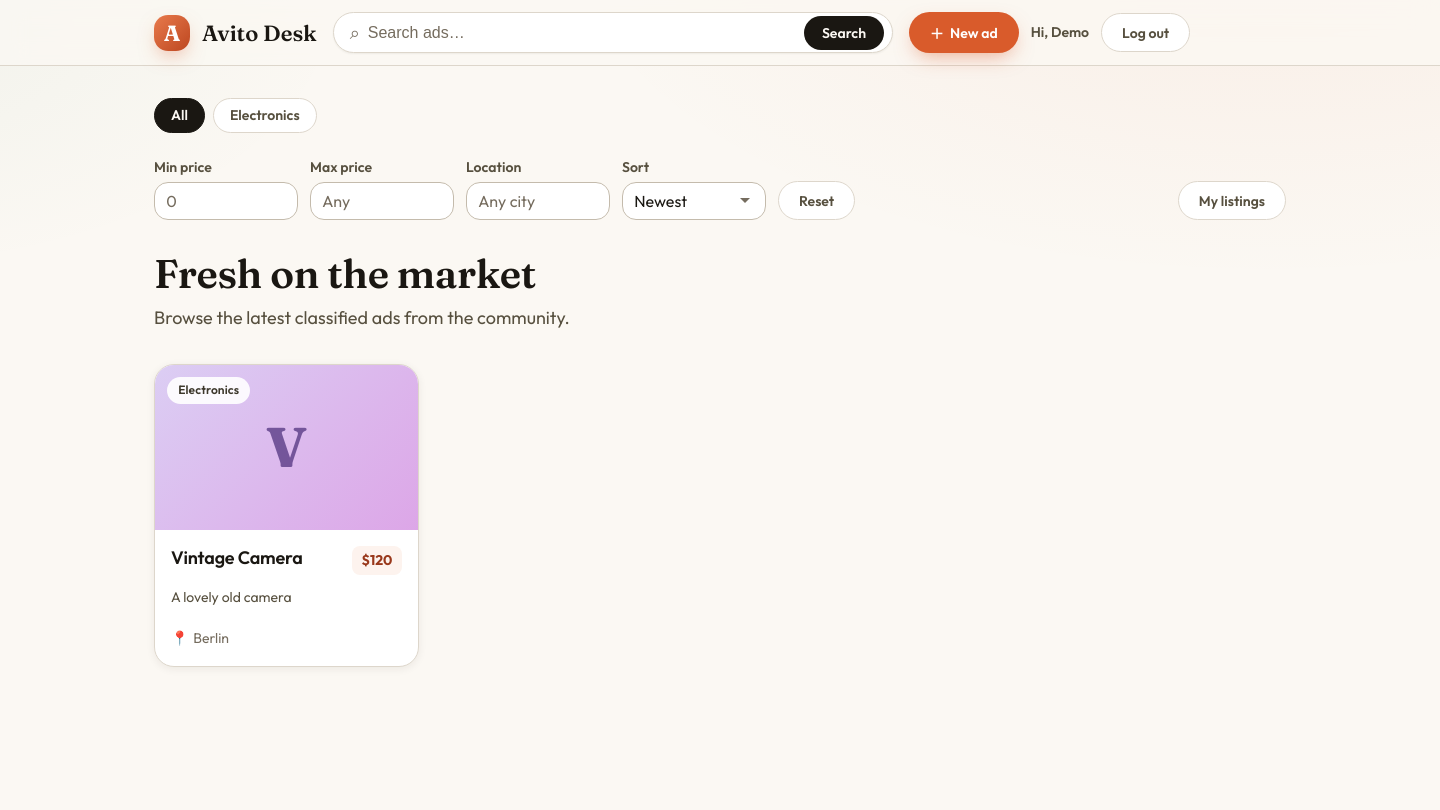
Test: item form shows a validation error on empty name
The image size is (1440, 810).
What coordinates should you click on to do the following:
click the button "＋ New ad"
I would click on:
 (964, 33)
Its box is [909,12,1019,53].
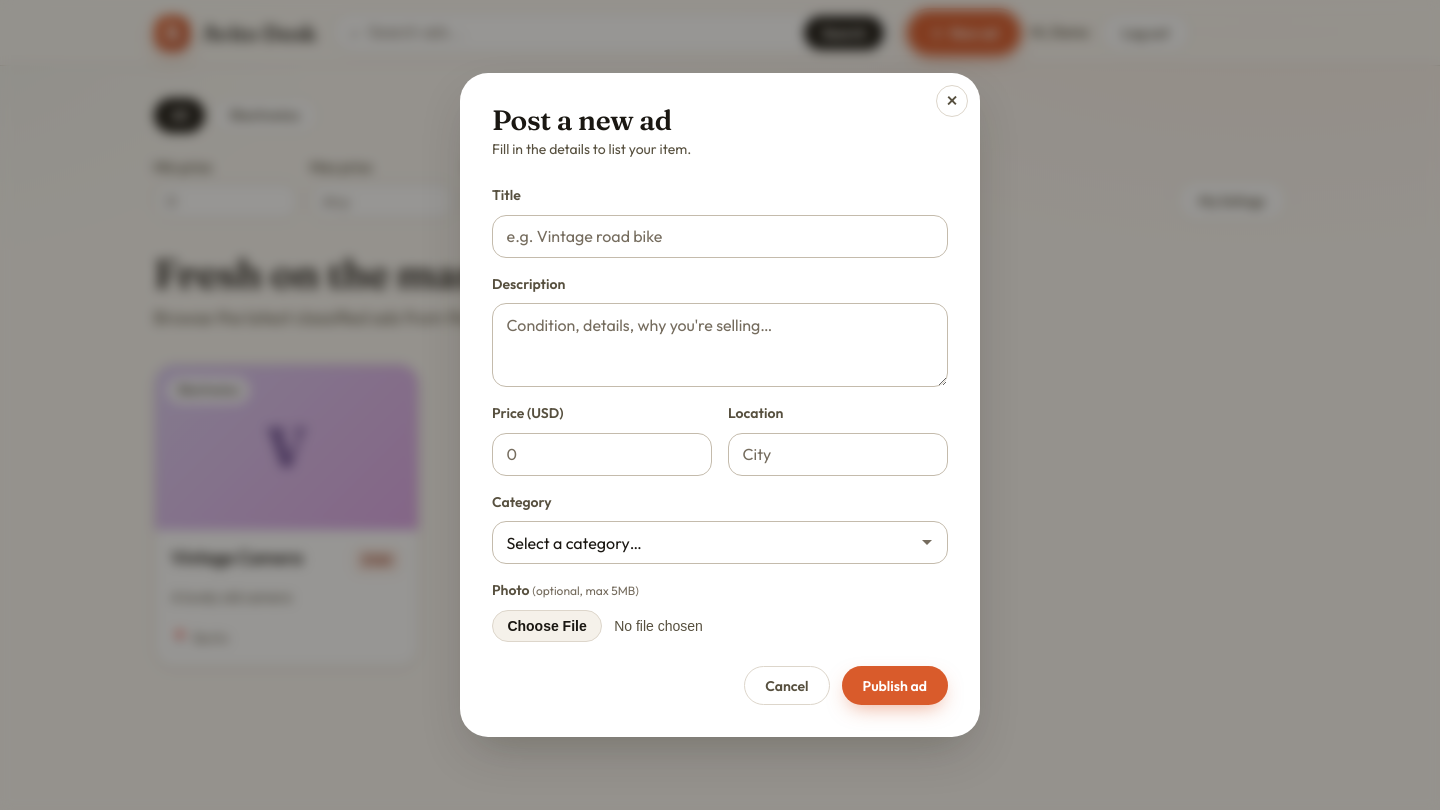
What coordinates should you click on to do the following:
click the button "Publish ad"
I would click on:
 (895, 686)
Its box is [842,666,948,705].
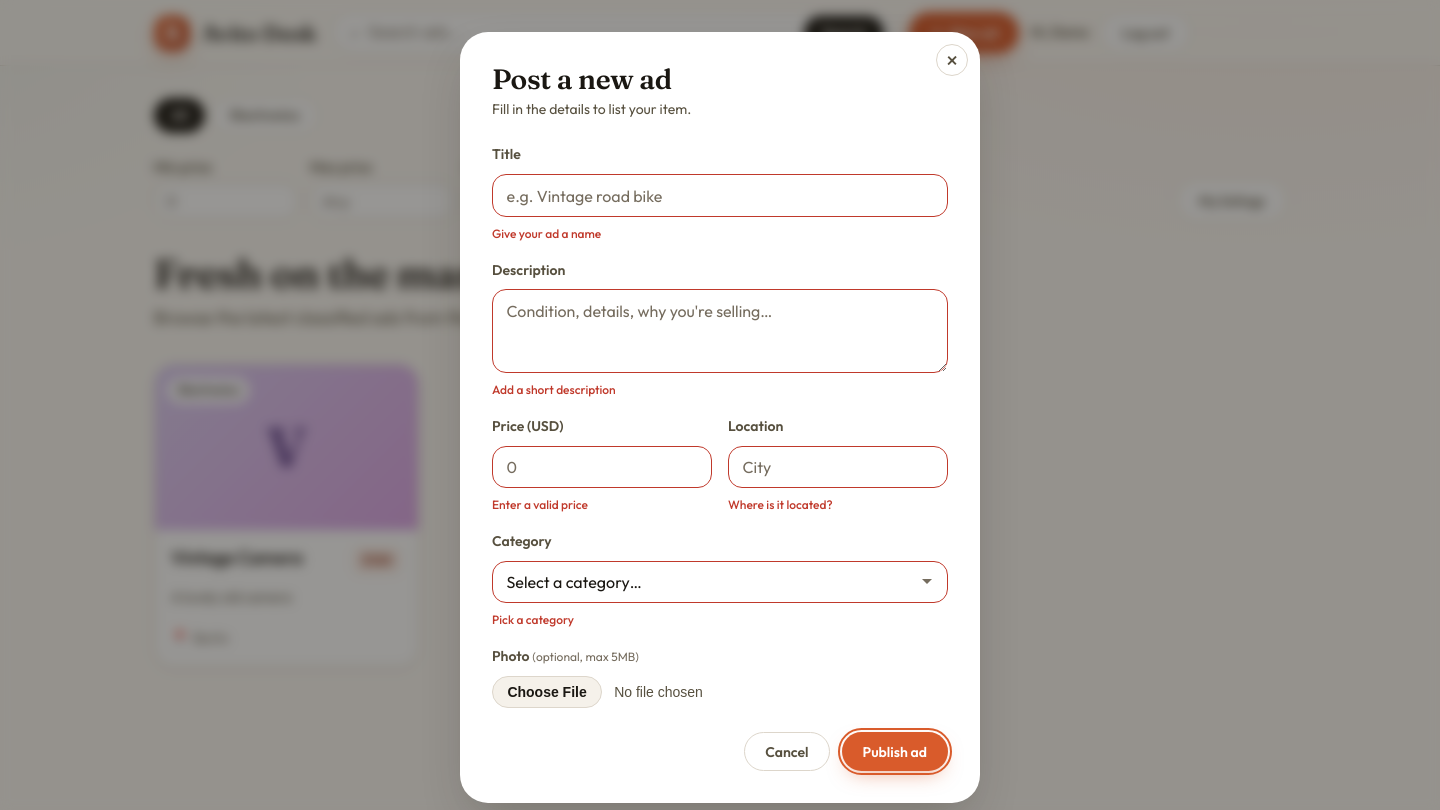
Result: the text "Give your ad a name" is shown at [492,226,601,241]
